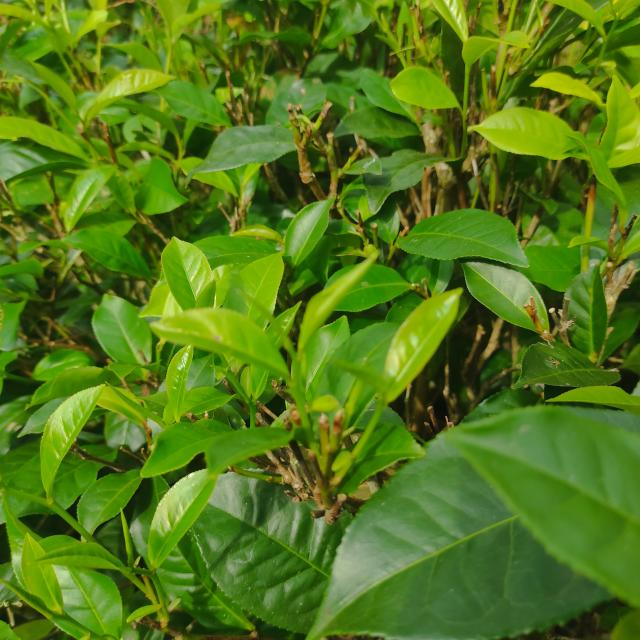unopened_leaf: (228, 281, 302, 364), (327, 352, 393, 398), (205, 358, 252, 403), (112, 500, 136, 570)
